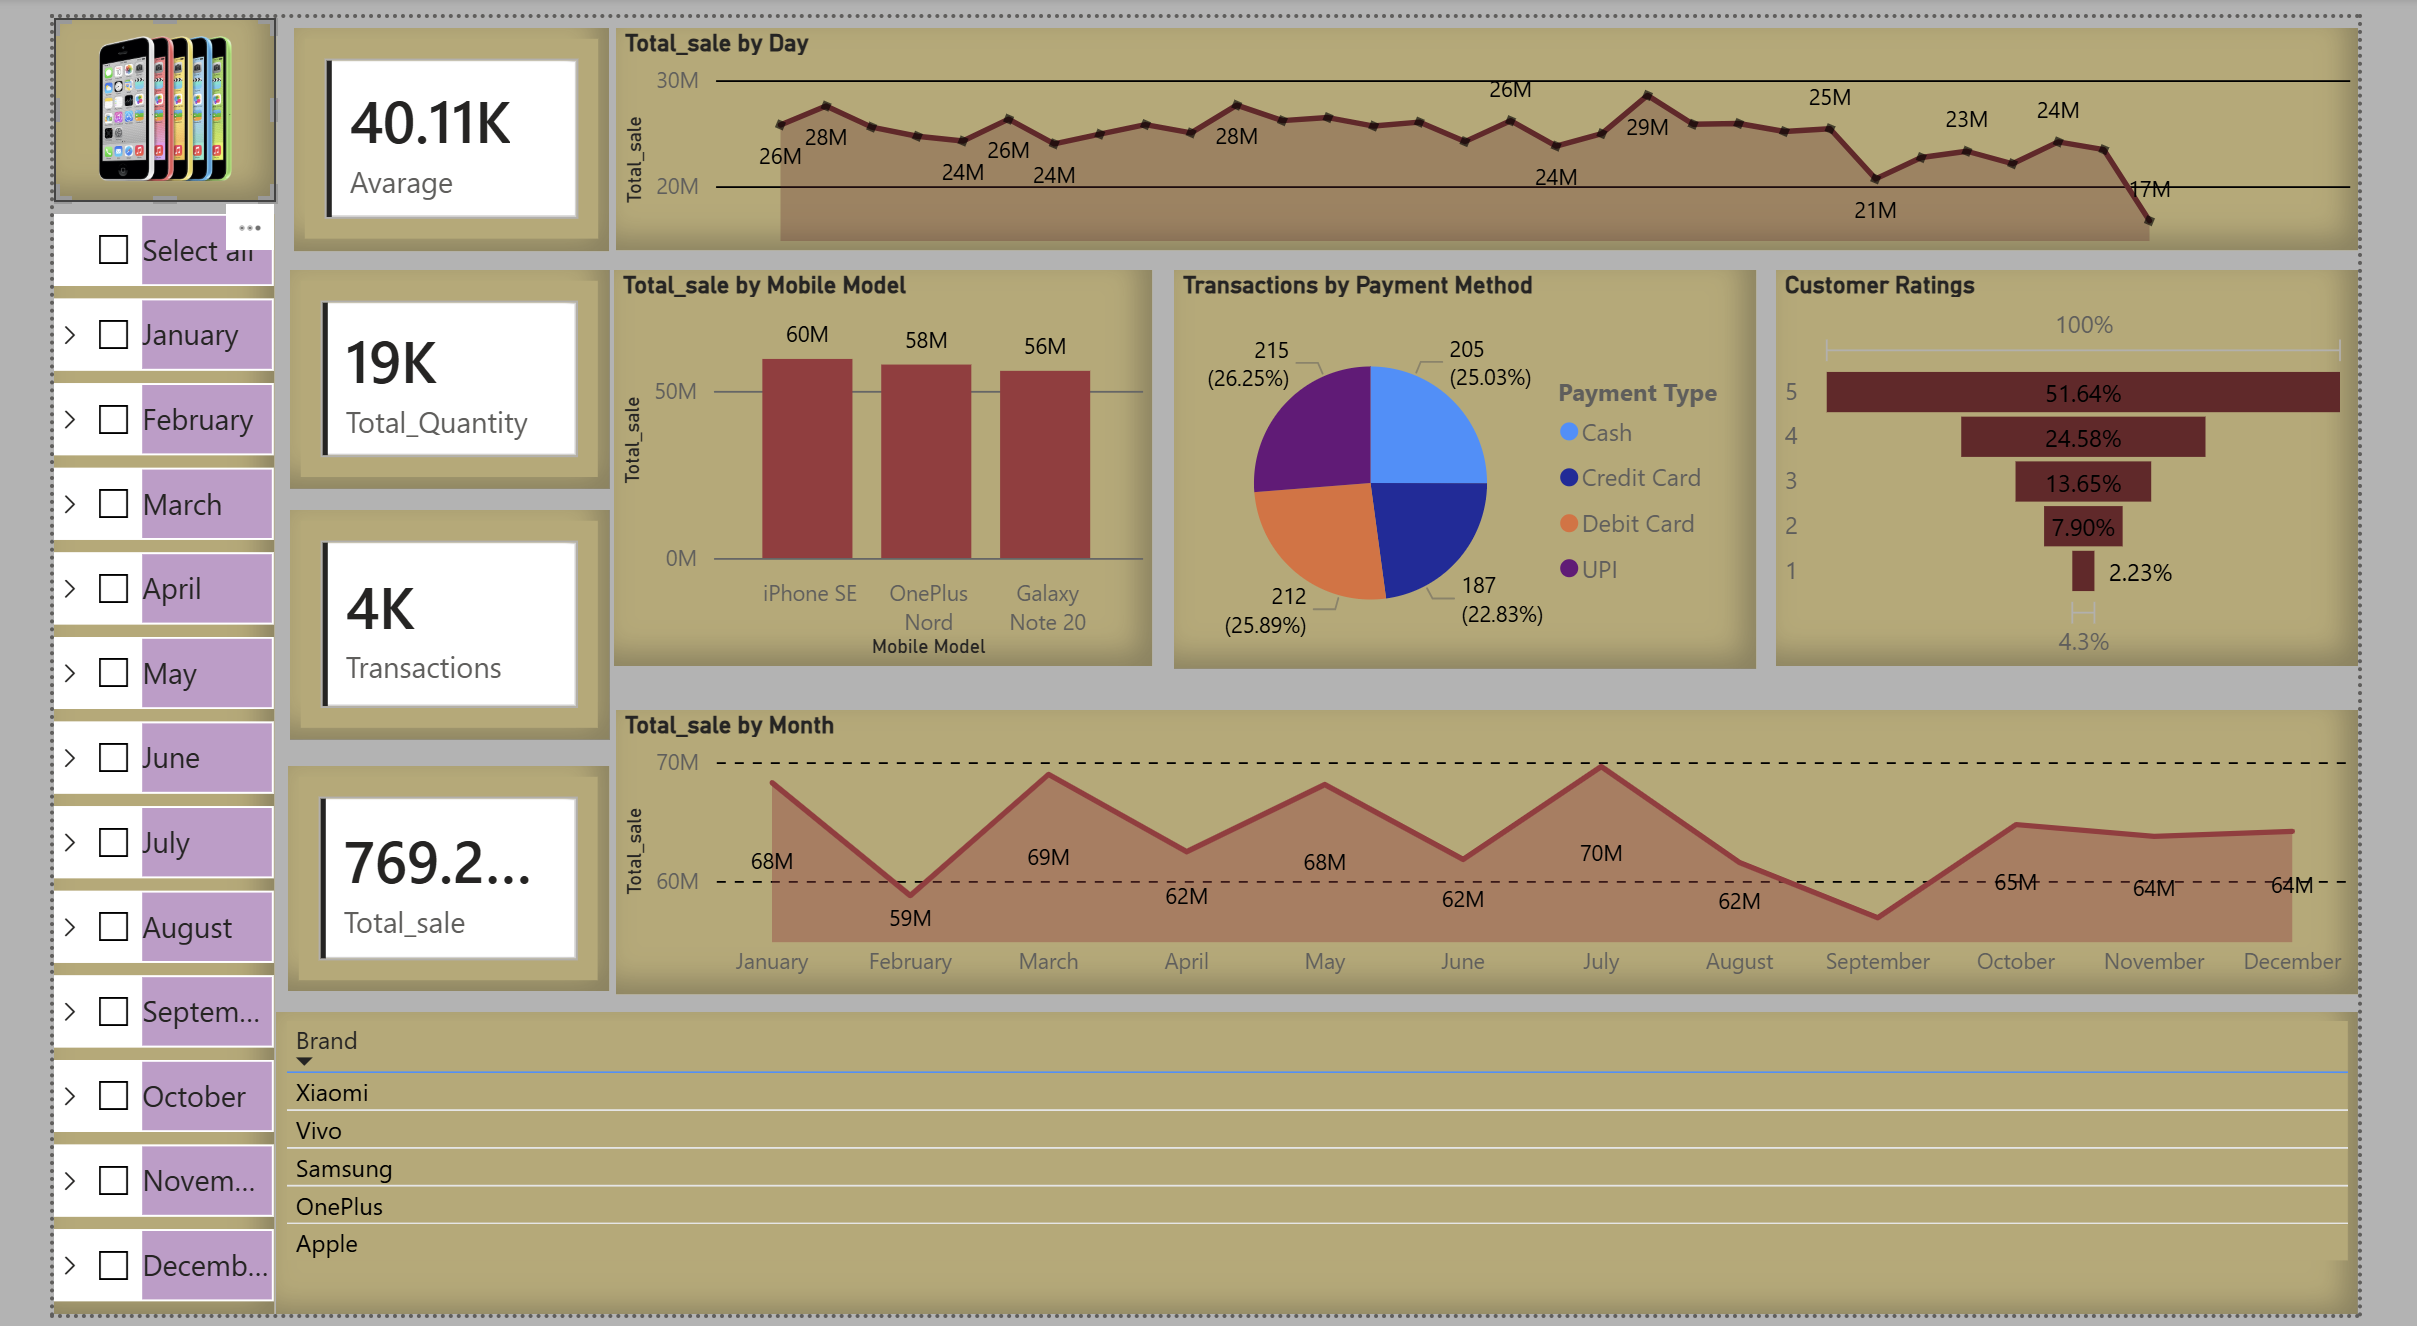

The page's visual inventory and layout, read from the dashboard file:
{"tool":"powerbi","page":{"name":"Page 1","canvas":[1280,720],"ordinal":0},"visuals":[{"type":"listSlicer","fields":{"Values":["Sales_data.Date.Variation.Date Hierarchy.Month","Sales_data.Date.Variation.Date Hierarchy.Day"]},"box":[0,108.4,122.4,612],"z":0},{"type":"cardVisual","fields":{"Data":["Sales_data.Transactions"]},"box":[131.2,273.8,177.5,127.5],"z":1000},{"type":"cardVisual","fields":{"Data":["Sales_data.Avarage","select"]},"box":[133.8,5,175,123.8],"z":2000},{"type":"cardVisual","fields":{"Data":["Sales_data.Total_Quantity"]},"box":[131.2,140,177.5,121.2],"z":3000},{"type":"cardVisual","fields":{"Data":["Sales_data.Total_sale"]},"box":[130,415,178.3,125],"z":4000},{"type":"lineChart","fields":{"Y":["Sales_data.Total_sale"],"Category":["Sales_data.Date.Variation.Date Hierarchy.Day"]},"box":[311.7,5,968.3,123.3],"z":5000},{"type":"clusteredColumnChart","fields":{"Category":["Sales_data.Mobile Model"],"Y":["Sales_data.Total_sale"]},"box":[311.2,140,298.8,220],"z":6000},{"type":"pieChart","fields":{"Series":["Sales_data.Payment Method"],"Y":["Sales_data.Transactions"]},"box":[621.7,140,323.3,221.7],"z":7000},{"type":"funnel","title":"Customer Ratings","fields":{"Category":["Sales_data.Customer Ratings"],"Y":["Sum(Sales_data.Customer Ratings)"]},"box":[956.7,140,323.3,220],"z":8000},{"type":"stackedAreaChart","fields":{"Y":["Sales_data.Total_sale"],"Category":["Sales_data.Date.Variation.Date Hierarchy.Month"]},"box":[312,384,968,158],"z":9000},{"type":"tableEx","fields":{"Values":["Sales_data.Brand"]},"box":[123.3,551.7,1156.7,171.7],"z":10000},{"type":"image","box":[0,0,117.3,110.9],"z":11000},{"type":"shape","box":[0,5.5,122.7,96.4],"z":12000},{"type":"image","box":[0,0,123.3,102.2],"z":13000}]}

Visuals, with their boxes in screenshot pixels (x1, y1, x2, y2), scaled from the page's 1280x720 canvas onto the 2417x1326 screenshot:
listSlicer - Sales_data.Date.Variation.Date Hierarchy.Month x Sales_data.Date.Variation.Date Hierarchy.Day: l=0, t=200, r=231, b=1325
cardVisual - Sales_data.Transactions: l=248, t=504, r=583, b=739
cardVisual - Sales_data.Avarage x select: l=253, t=9, r=583, b=237
cardVisual - Sales_data.Total_Quantity: l=248, t=258, r=583, b=481
cardVisual - Sales_data.Total_sale: l=245, t=764, r=582, b=994
lineChart - Sales_data.Total_sale x Sales_data.Date.Variation.Date Hierarchy.Day: l=589, t=9, r=2416, b=236
clusteredColumnChart - Sales_data.Mobile Model x Sales_data.Total_sale: l=588, t=258, r=1152, b=663
pieChart - Sales_data.Payment Method x Sales_data.Transactions: l=1174, t=258, r=1784, b=666
"Customer Ratings" funnel: l=1807, t=258, r=2416, b=663
stackedAreaChart - Sales_data.Total_sale x Sales_data.Date.Variation.Date Hierarchy.Month: l=589, t=707, r=2416, b=998
tableEx - Sales_data.Brand: l=233, t=1016, r=2416, b=1325
image: l=0, t=0, r=221, b=204
shape: l=0, t=10, r=232, b=188
image: l=0, t=0, r=233, b=188
